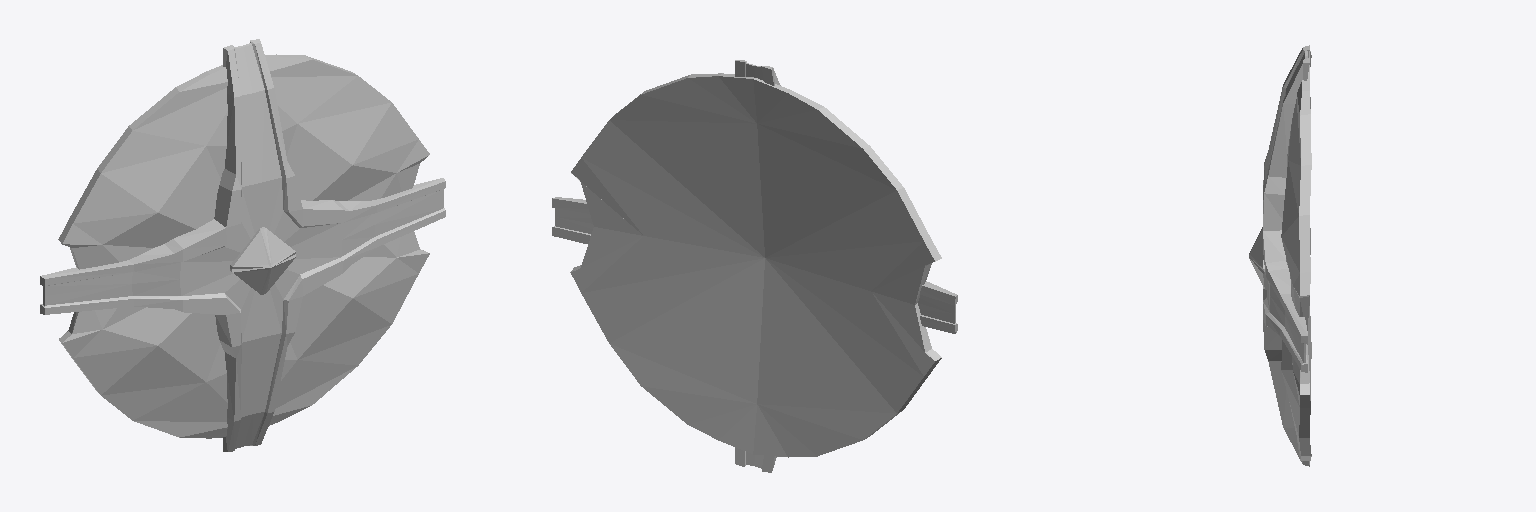
File: shield.obj
The picture shows the model from 3 angles: view 1: azimuth 30°, elevation 25°; view 2: azimuth 150°, elevation 25°; view 3: azimuth 270°, elevation 25°; orthographic projection.
Parts seen in each view (by area): view 1: Sheild_1; view 2: Sheild_1; view 3: Sheild_1.
Part boxes in pixels (left/top/right/bottom): Sheild_1: left=40, top=39, right=445, bottom=451; Sheild_1: left=552, top=60, right=957, bottom=472; Sheild_1: left=1249, top=45, right=1311, bottom=466.
Bounding box in the file's own units: 3.94 × 3.78 × 0.5369.